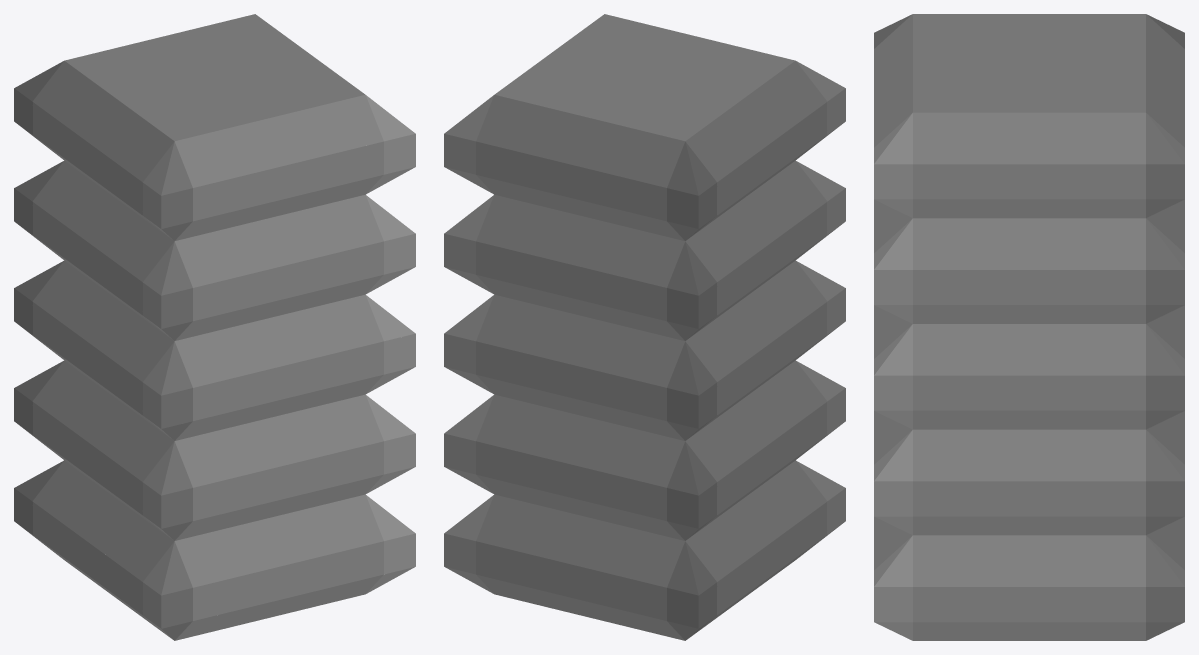
Rendered from fp_prop_stack_06.gltf.
The picture shows the model from 3 angles, left to right: view 1: azimuth 30°, elevation 25°; view 2: azimuth 150°, elevation 25°; view 3: azimuth 270°, elevation 25°; orthographic projection. The views are drawn at different scales.
Parts seen in each view (by area): view 1: fp_prop_stack_06; view 2: fp_prop_stack_06; view 3: fp_prop_stack_06.
Boxes of the visible parts, bbox=[...] form: fp_prop_stack_06: bbox=[14, 14, 415, 640]; fp_prop_stack_06: bbox=[444, 14, 845, 640]; fp_prop_stack_06: bbox=[874, 14, 1184, 640].
Bounding box in the file's own units: 1 × 1.88 × 1.
1 material, 1 textured.
